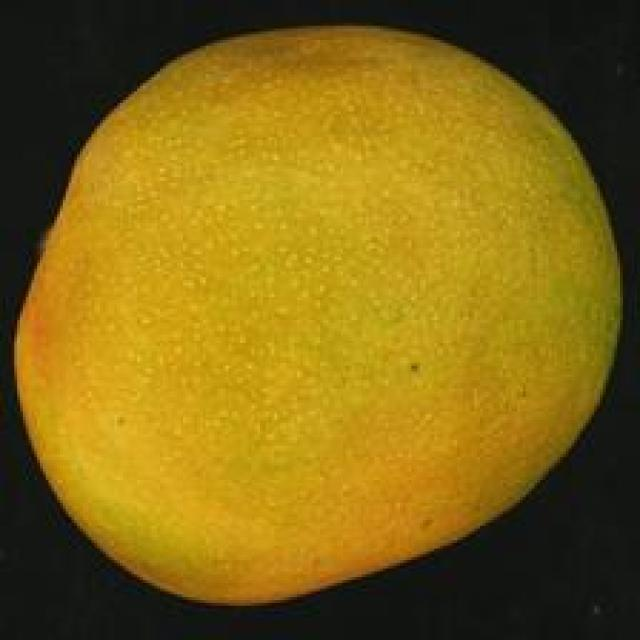Good_Mango: (11, 23, 623, 611)
